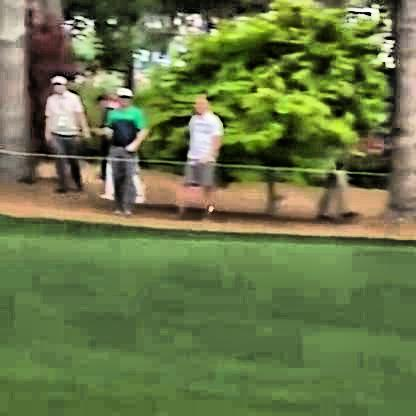golfball: (203, 198, 210, 209)
